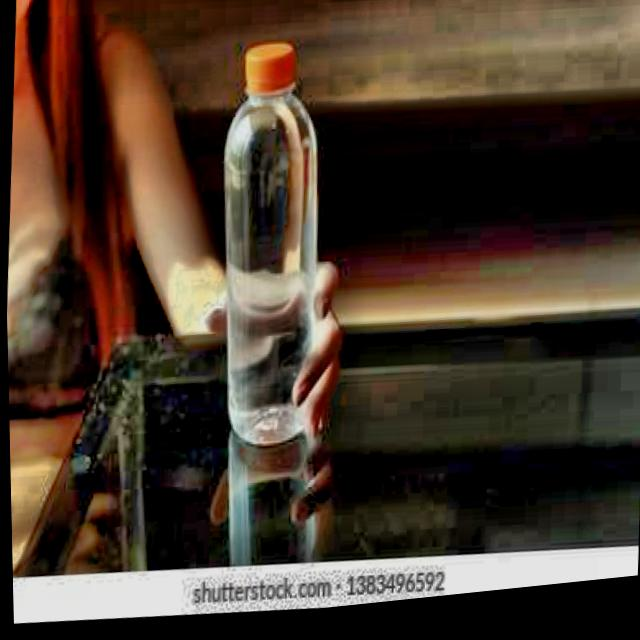Bottles: (184, 17, 371, 500)
